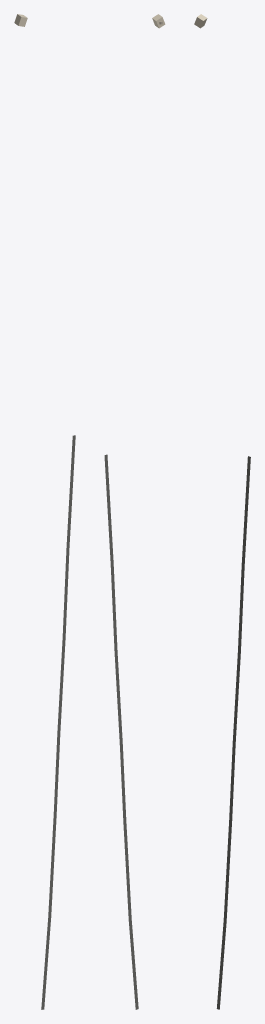
Rendered from amman_3590_3172.glb.
3 views of the same model, side by side, from view 1: azimuth 30°, elevation 25°; view 2: azimuth 210°, elevation 25°; view 3: azimuth 330°, elevation 25° (orthographic).
Visible parts, largest first — view 1: Road; view 2: Road; view 3: Road.
Part boxes in pixels (box(x1,y1,x2,y2)): Road: box(41, 435, 75, 1009); Road: box(104, 454, 138, 1009); Road: box(216, 456, 250, 1009).
Size of the model in its own units: 60.6 by 1007 by 8.7.
